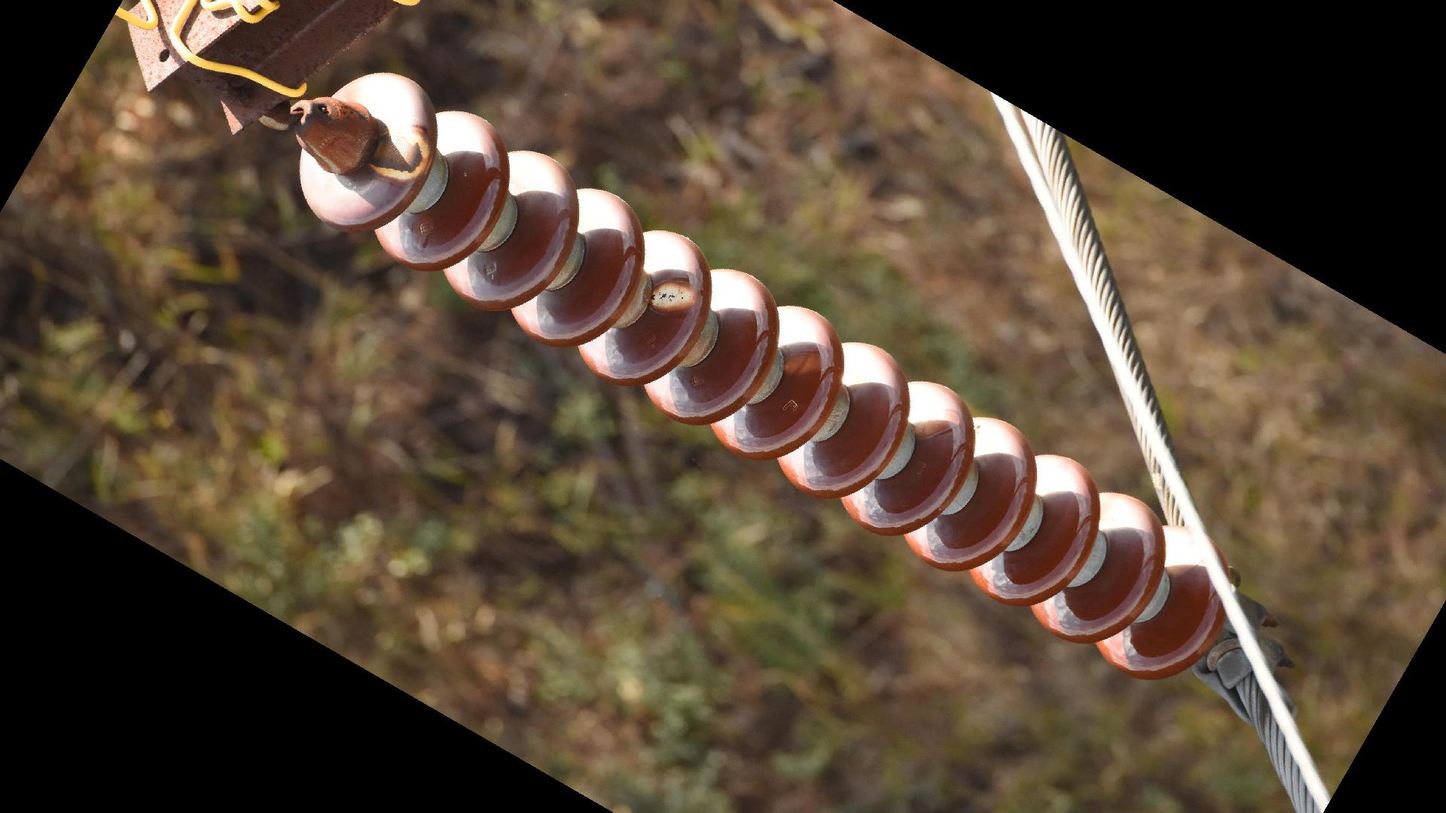insulator: (291, 65, 1237, 687)
insulator_flashover: (368, 120, 434, 182), (647, 279, 700, 314), (782, 349, 834, 378)
